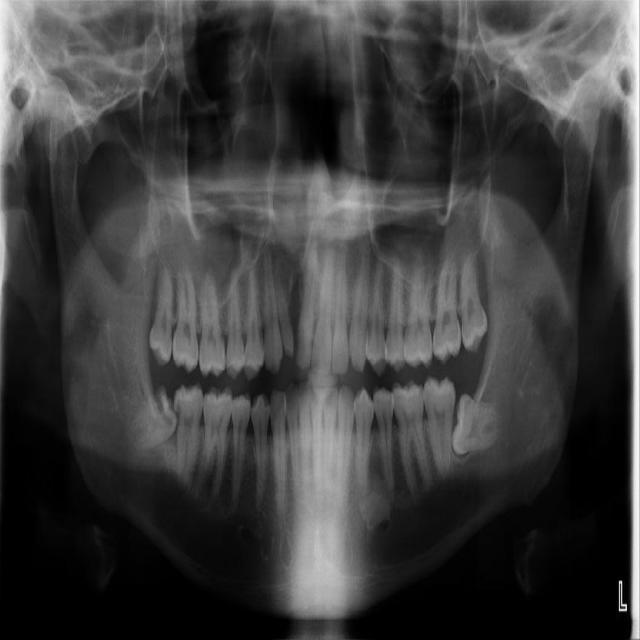3M ESPE Implant: (148, 251, 176, 367)
52: (149, 390, 175, 429), (174, 401, 183, 429)
73: (568, 585, 572, 595)
BioHorizons Implant: (430, 249, 471, 367)
BioLife Implant: (458, 242, 489, 355)
Biomet 3i Implant: (449, 393, 506, 460)
Blue Sky Bio Implant: (423, 376, 456, 488)
Caries: (171, 258, 203, 374)
Implant: (169, 381, 204, 493)
Keystone Dental Implant: (118, 382, 193, 461)
